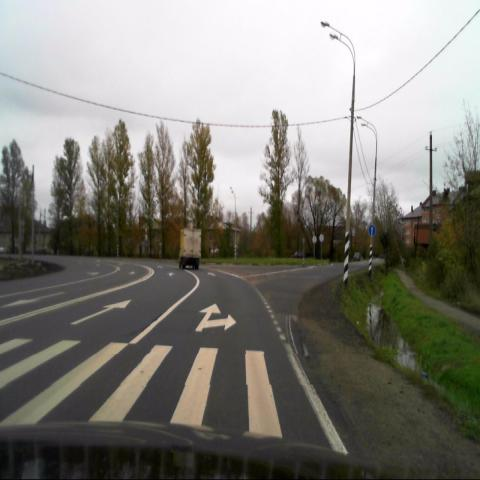4_1_1: (368, 224, 376, 236)
